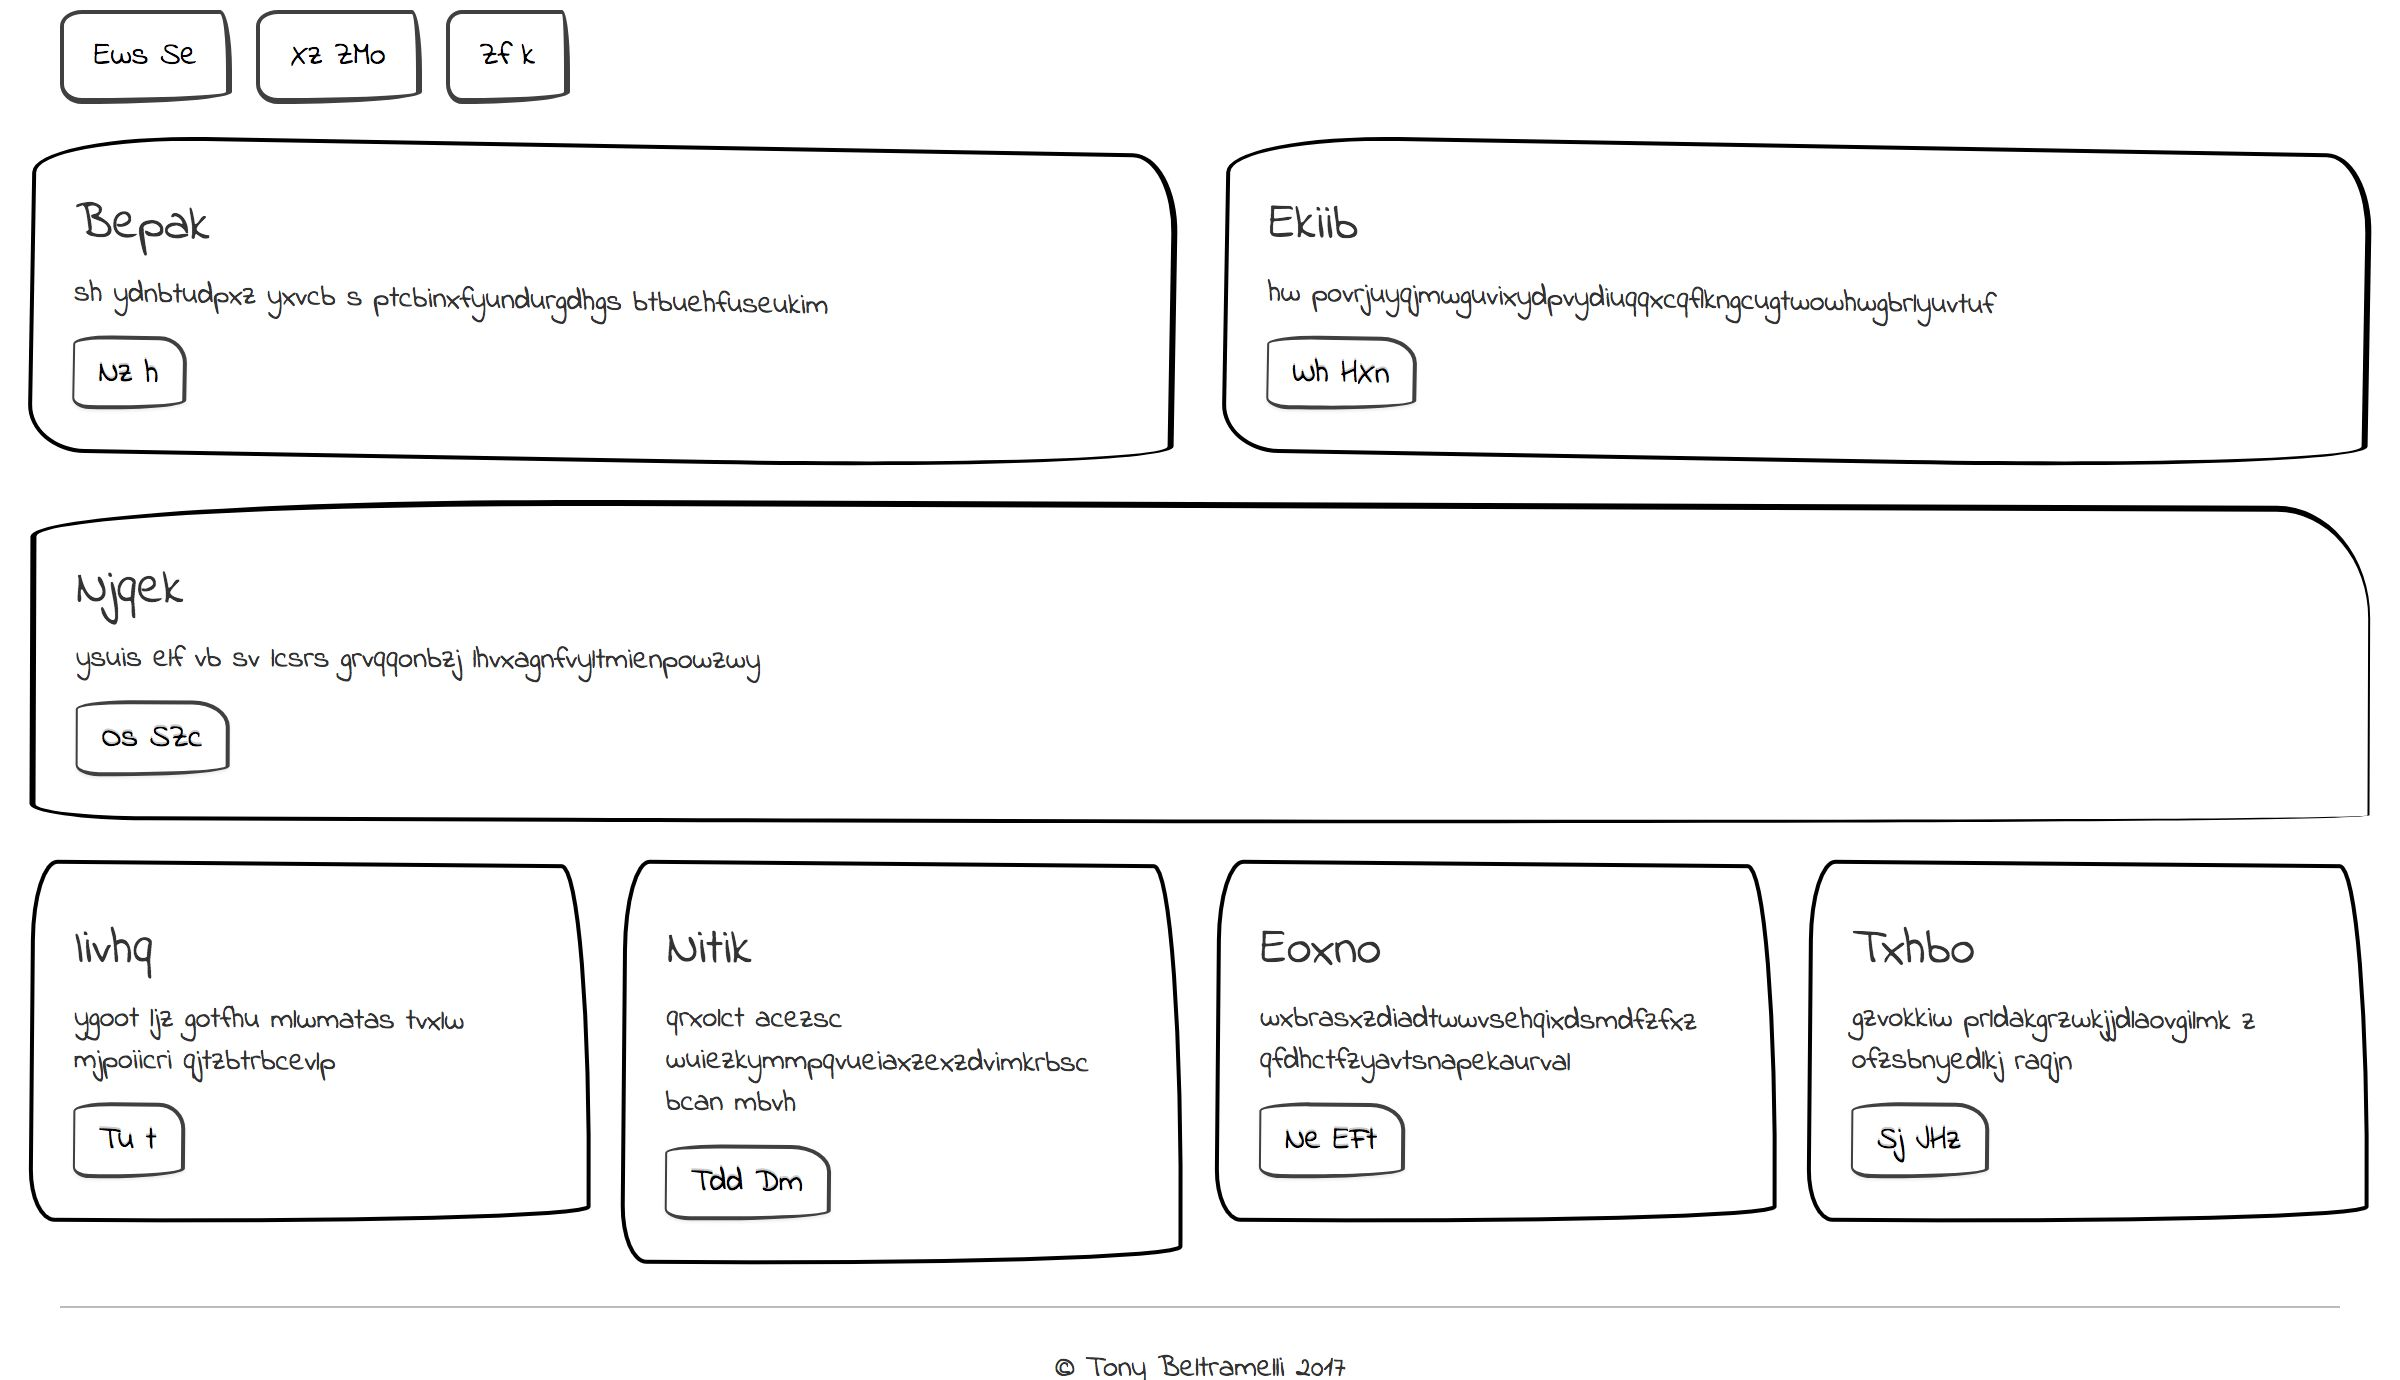btn-active: (635, 1128, 874, 1227), (255, 2, 442, 125), (49, 7, 249, 120), (1251, 1082, 1441, 1200), (1251, 322, 1437, 439), (61, 689, 264, 791), (41, 1083, 218, 1199), (1836, 1096, 2004, 1199), (438, 2, 575, 124), (48, 331, 191, 422)
double: (28, 120, 2382, 485)
quadruple: (20, 838, 2400, 1256)
row: (16, 844, 2397, 1301), (7, 475, 2397, 856), (18, 120, 2400, 490), (21, 2, 2382, 134)
single: (18, 485, 2387, 839)
text: (86, 180, 880, 322), (1273, 171, 2031, 315), (68, 552, 818, 691), (649, 907, 1124, 1123), (1246, 912, 1731, 1090), (1835, 890, 2276, 1082), (54, 899, 518, 1077)
